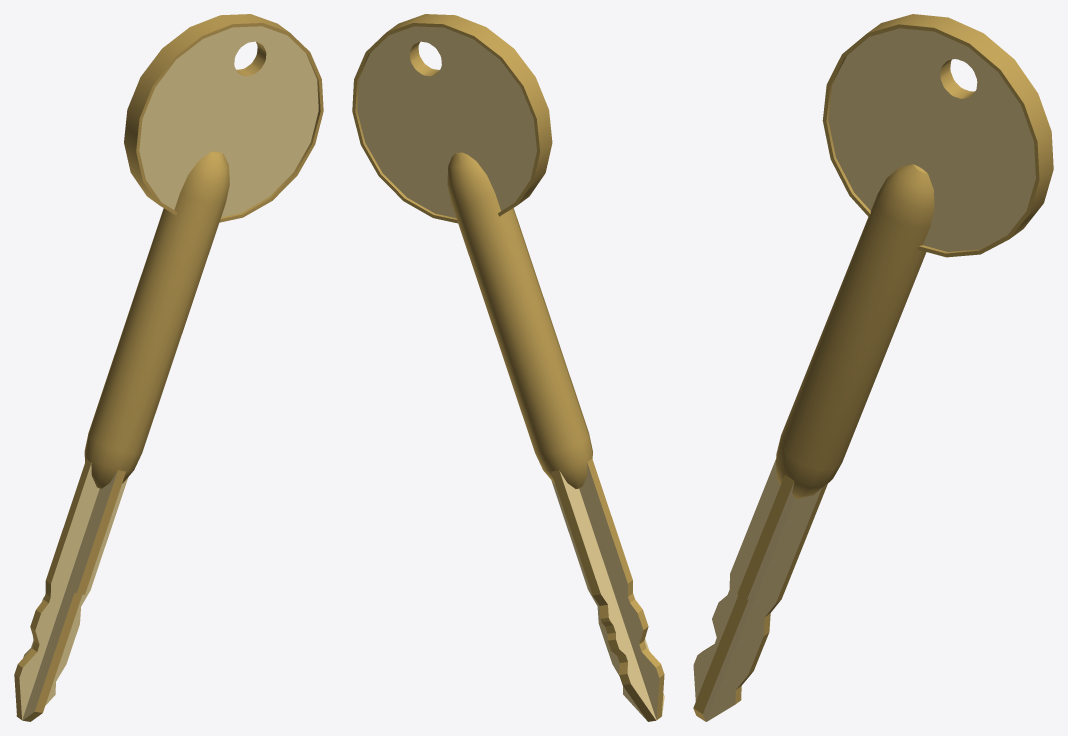
The model's file is Key_16.fbx.
The picture shows the model from 3 angles, left to right: view 1: azimuth 30°, elevation 25°; view 2: azimuth 150°, elevation 25°; view 3: azimuth 330°, elevation 25°; orthographic projection. The views are drawn at different scales.
Parts seen in each view (by area): view 1: Key16.001; view 2: Key16.001; view 3: Key16.001.
Boxes of the visible parts, bbox=[...] form: Key16.001: bbox=[14, 14, 323, 721]; Key16.001: bbox=[352, 14, 664, 721]; Key16.001: bbox=[693, 14, 1053, 721].
Size of the model in its own units: 0.5772 by 1.19 by 0.093.
